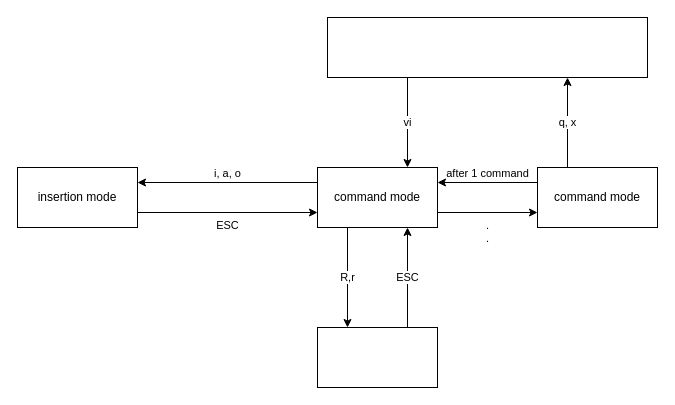
Some shapes in this 675 by 405 pixel diagram are drawn without their labels. Here are the shapes that lost their labels. From the top down, the centre of each, then its label:
At point 487,47: "not running".
At point 377,357: "replacement mode".
